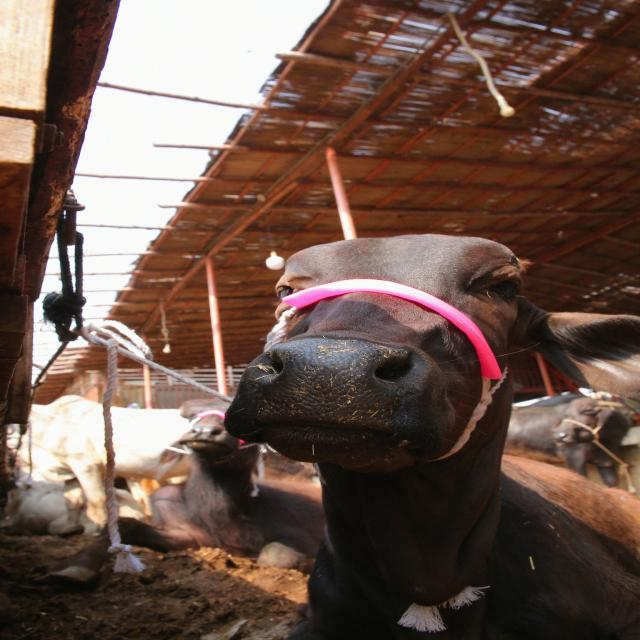muzzles: (243, 340, 432, 438)
